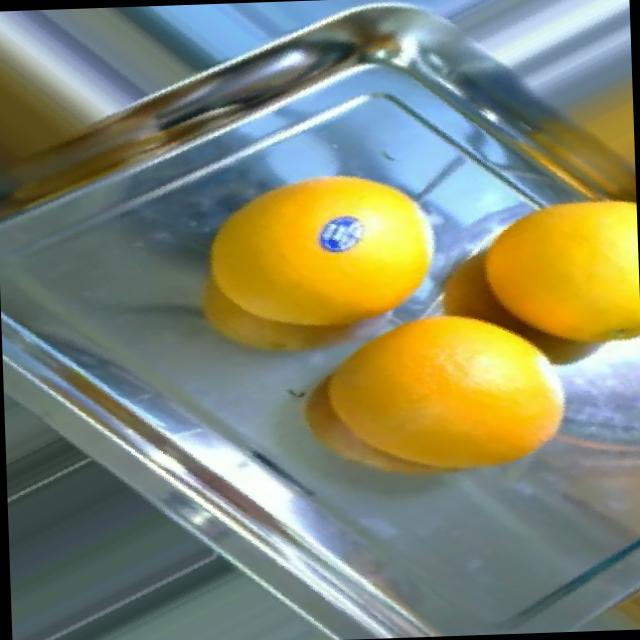Fruit: (269, 300, 472, 500), (260, 140, 463, 336)
